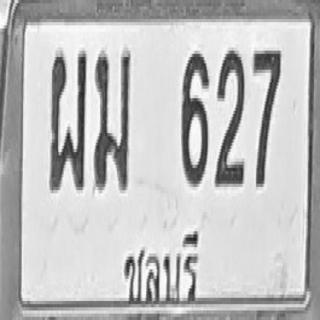A28: (49, 49, 86, 192)
A33: (93, 48, 130, 190)
N02: (214, 49, 245, 185)
N06: (181, 51, 209, 184)
N07: (252, 48, 281, 187)
P13: (118, 218, 199, 306)
